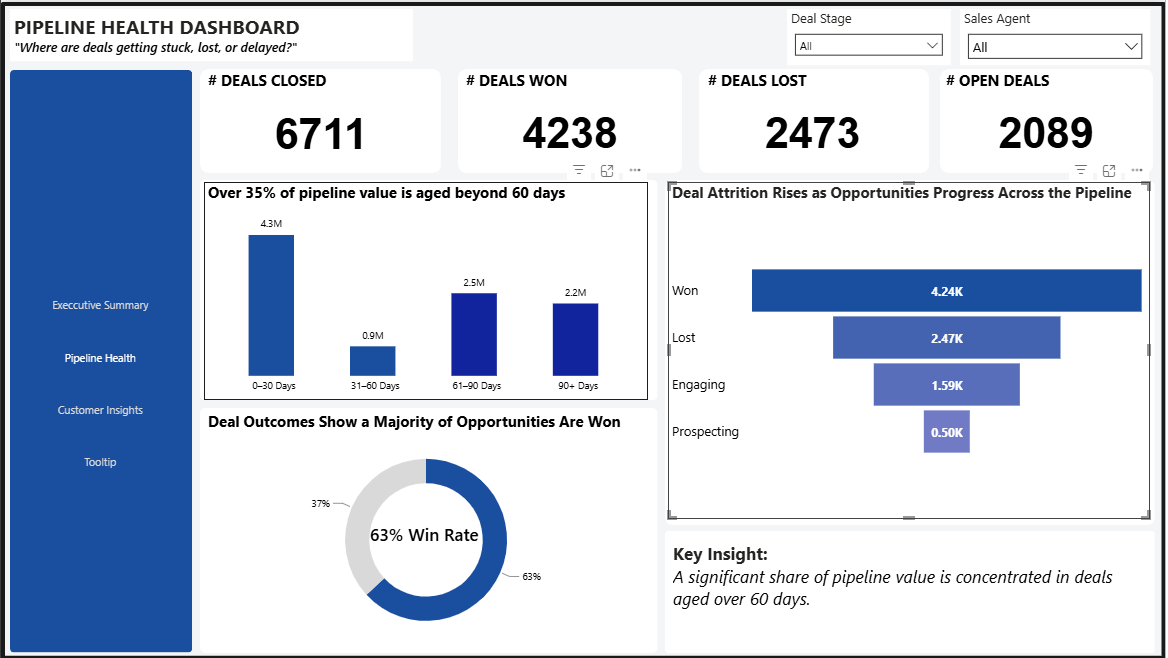

The dashboard page shown, as its layout file describes it:
{"tool":"powerbi","page":{"name":"Pipeline Health ","canvas":[1450,820],"ordinal":8},"visuals":[{"type":"shape","box":[0,0,1450.6,819.5],"z":0},{"type":"shape","box":[827.3,658.4,610.4,151.9],"z":1000},{"type":"shape","box":[869,83.5,286.8,129.7],"z":2000},{"type":"textbox","box":[11.2,8.7,502.4,64.8],"z":3000},{"type":"shape","box":[569.8,83.5,279.3,129.7],"z":4000},{"type":"shape","box":[11.2,84.8,226.9,725.6],"z":5000},{"type":"shape","box":[1169.5,83.5,265.6,129.7],"z":6000},{"type":"shape","box":[248.1,83.5,300.5,129.7],"z":7000},{"type":"shape","box":[827.3,222.1,610.4,429.9],"z":8000},{"type":"shape","box":[248.1,222.1,570.1,274],"z":9000},{"type":"shape","box":[248.1,505.2,570.1,305.2],"z":10000},{"type":"card","title":"# OPEN DEALS","fields":{"Values":["DAX_measures.Open Deals"]},"box":[1171.9,84.8,259.3,124.7],"z":11000},{"type":"card","title":"# DEALS LOST","fields":{"Values":["DAX_measures.Deals Lost"]},"box":[875.2,84.8,270.5,124.7],"z":12000},{"type":"card","title":"# DEALS CLOSED","fields":{"Values":["DAX_measures.Closed Deals Count"]},"box":[253.1,84.8,291.7,125.9],"z":13000},{"type":"funnel","title":"Deal Attrition Rises as Opportunities Progress Across the Pipeline","fields":{"Category":["fact_sales_pipeline.Deal_Stage"],"Y":["CountNonNull(fact_sales_pipeline.Deal_Stage)"]},"box":[831.2,224.7,600,419.5],"z":14000},{"type":"card","title":"# DEALS WON","fields":{"Values":["DAX_measures.Deals Won"]},"box":[574.8,84.8,269.3,123.4],"z":15000},{"type":"donutChart","title":"Deal Outcomes Show a Majority of Opportunities Are Won","fields":{"Y":["DAX_measures.Deals Won","DAX_measures.Deals Lost"]},"box":[253.2,509.1,553.2,296.1],"z":16000},{"type":"clusteredColumnChart","title":"Over 35% of pipeline value is aged beyond 60 days","fields":{"Category":["fact_sales_pipeline.Age Bucket"],"Y":["Sum(fact_sales_pipeline.Close_Value)"]},"box":[253.2,224.7,553.2,271.4],"z":17000},{"type":"textbox","box":[454.5,644.2,150.6,45.5],"z":18000},{"type":"textbox","box":[832.5,667.5,602.6,136.4],"z":19000},{"type":"pageNavigator","box":[24,350,200,250],"z":20000},{"type":"slicer","title":"Sales Agent","fields":{"Values":["dim_sales_teams.Sales_Agent"]},"box":[1194.8,9.1,237.4,70.1],"z":21000},{"type":"slicer","title":"Deal Stage","fields":{"Values":["fact_sales_pipeline.Deal_Stage"]},"box":[979.5,9.1,203.7,70.1],"z":22000}]}

Visuals, with their boxes in screenshot pixels (x1, y1, x2, y2), scaled from the page's 1450x820 canvas onto the 1168x658 screenshot:
shape: left=0, top=0, right=1167, bottom=657
shape: left=666, top=528, right=1158, bottom=650
shape: left=700, top=67, right=931, bottom=171
textbox: left=9, top=7, right=414, bottom=59
shape: left=459, top=67, right=684, bottom=171
shape: left=9, top=68, right=192, bottom=650
shape: left=942, top=67, right=1156, bottom=171
shape: left=200, top=67, right=442, bottom=171
shape: left=666, top=178, right=1158, bottom=523
shape: left=200, top=178, right=659, bottom=398
shape: left=200, top=405, right=659, bottom=650
"# OPEN DEALS" card: left=944, top=68, right=1153, bottom=168
"# DEALS LOST" card: left=705, top=68, right=923, bottom=168
"# DEALS CLOSED" card: left=204, top=68, right=439, bottom=169
"Deal Attrition Rises as Opportunities Progress Across the Pipeline" funnel: left=670, top=180, right=1153, bottom=517
"# DEALS WON" card: left=463, top=68, right=680, bottom=167
"Deal Outcomes Show a Majority of Opportunities Are Won" donutChart: left=204, top=409, right=650, bottom=646
"Over 35% of pipeline value is aged beyond 60 days" clusteredColumnChart: left=204, top=180, right=650, bottom=398
textbox: left=366, top=517, right=487, bottom=553
textbox: left=671, top=536, right=1156, bottom=645
pageNavigator: left=19, top=281, right=180, bottom=481
"Sales Agent" slicer: left=962, top=7, right=1154, bottom=64
"Deal Stage" slicer: left=789, top=7, right=953, bottom=64
